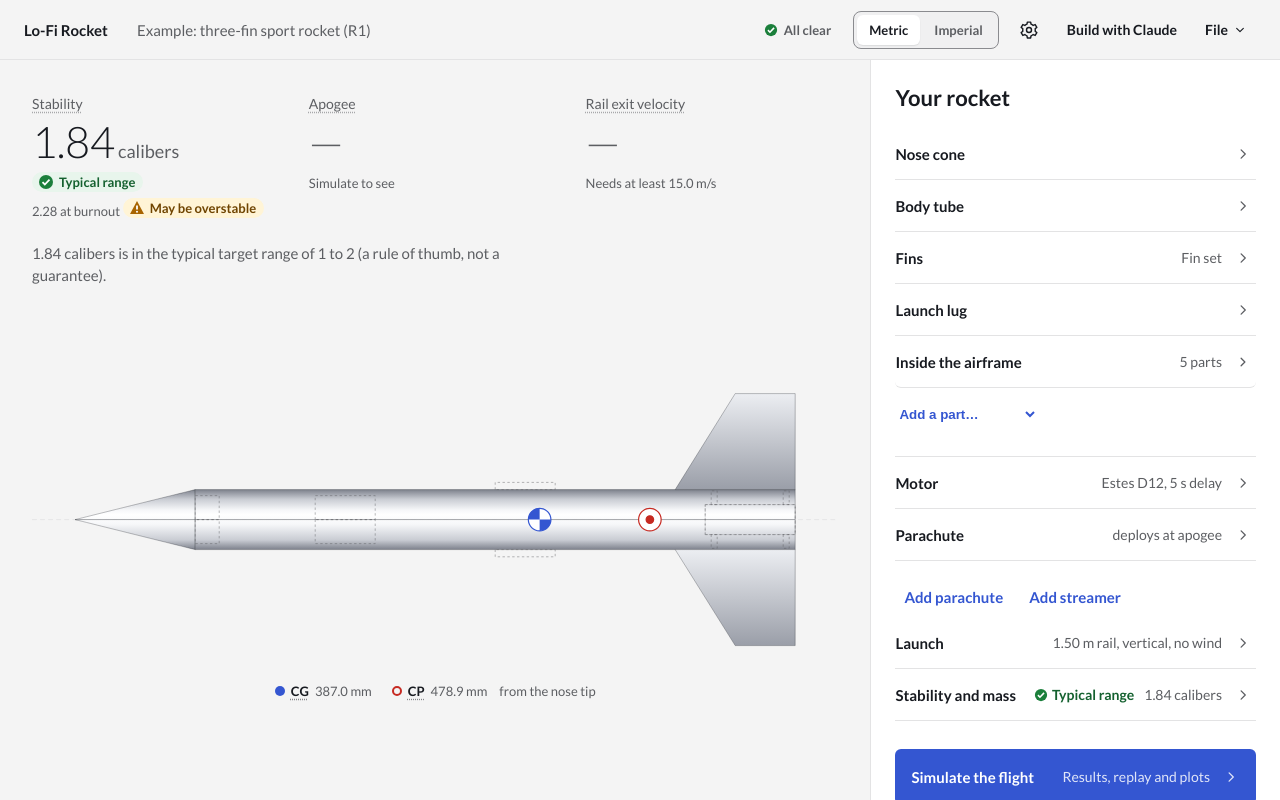
App (plan 0012) › starts from a given design and adds a part from the menu
Select "Body tube" in the dropdown named "Add a component" at (967, 414), box [895,392,1038,436]
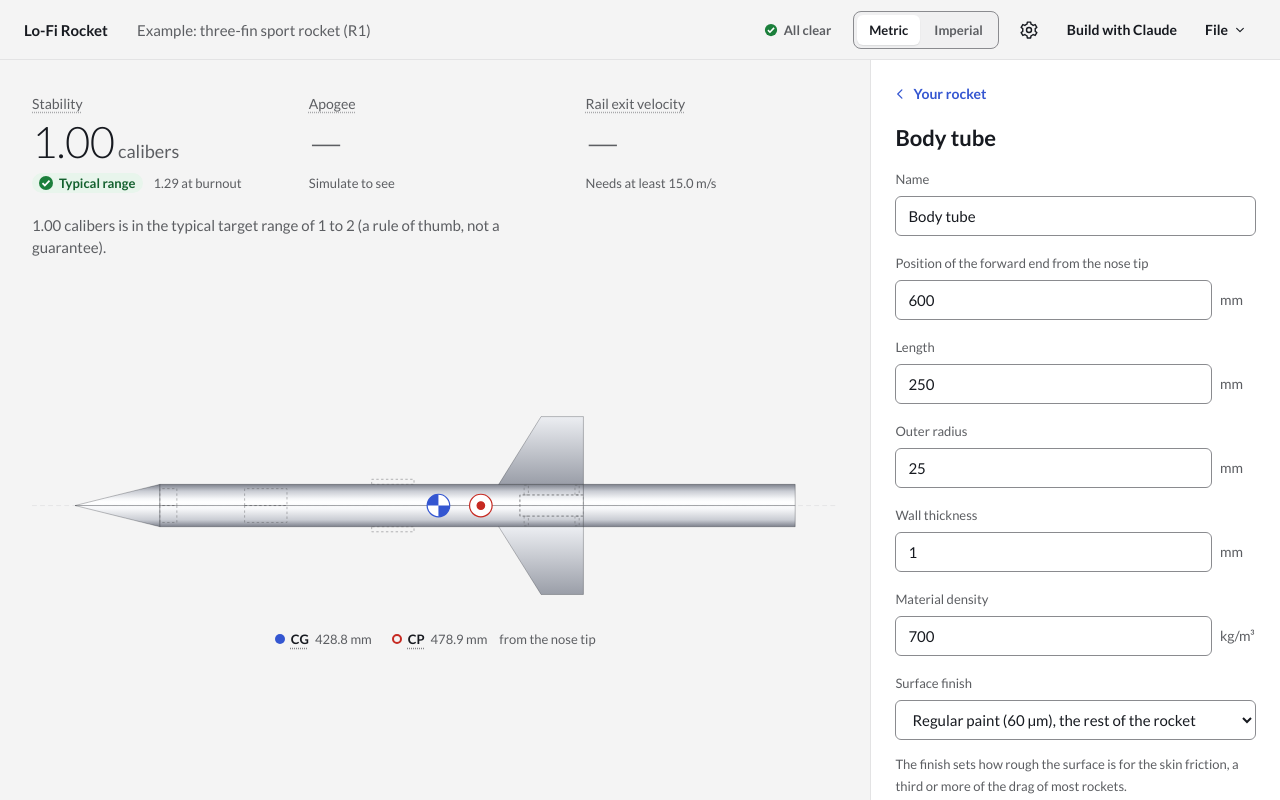
Now the element named "Body tube editor" is shown, box [895,124,1256,799]
Click the button "Your rocket" at (942, 94), box [887,76,996,112]
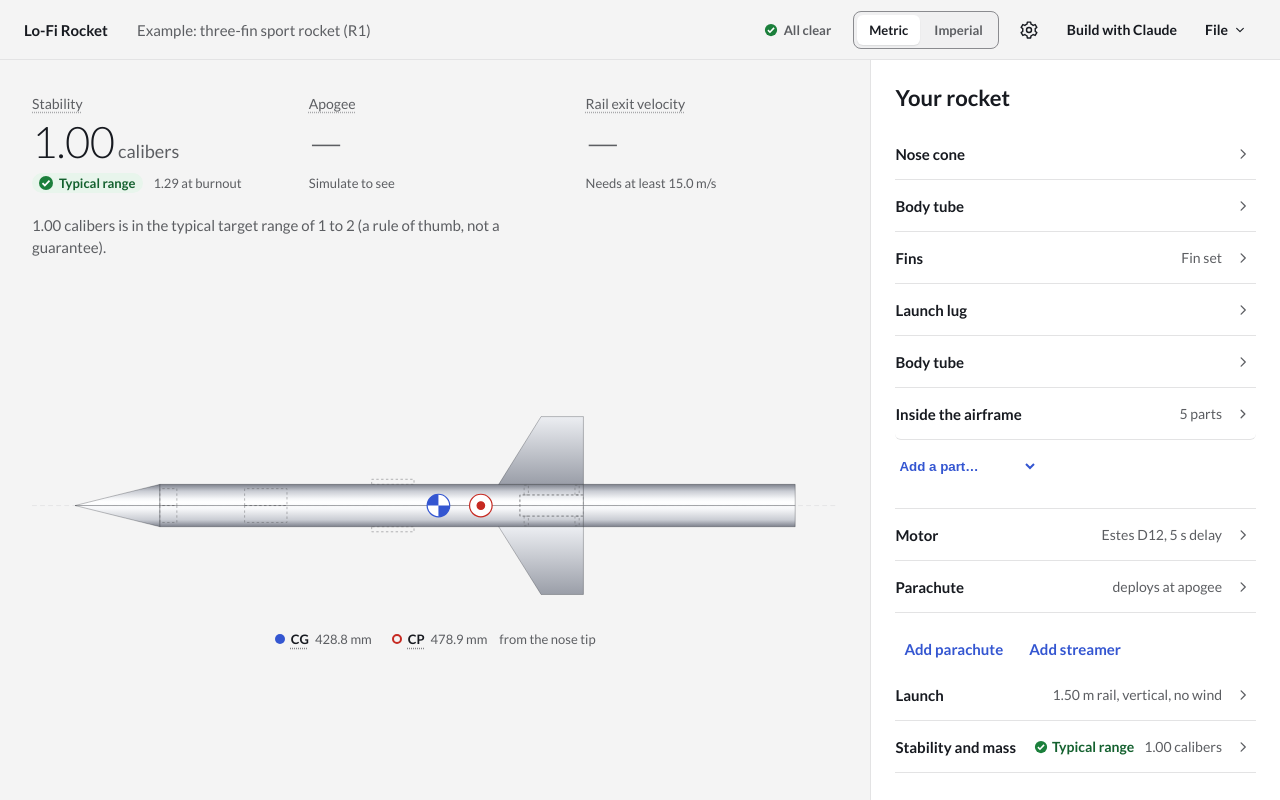
Now the number of options "Body tube" is 2, box [895,180,1256,232]; [895,336,1256,388]
